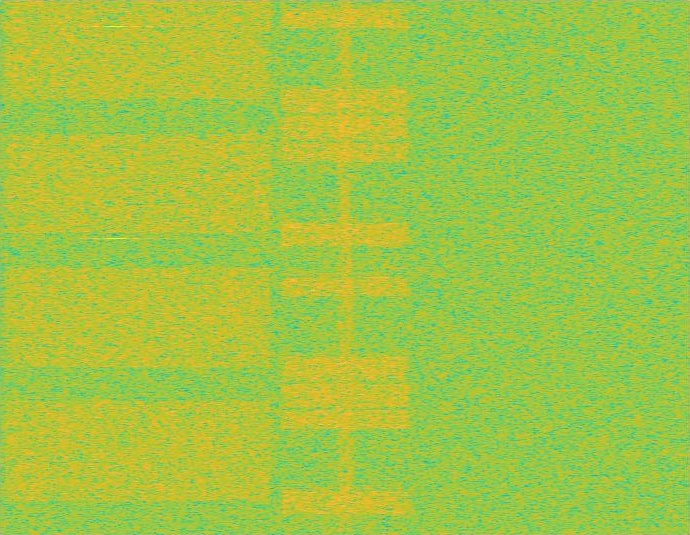5G: (0, 0, 276, 534)
DSSS: (336, 0, 354, 534)
LTE: (276, 0, 414, 534)
Radar: (109, 0, 123, 534)
